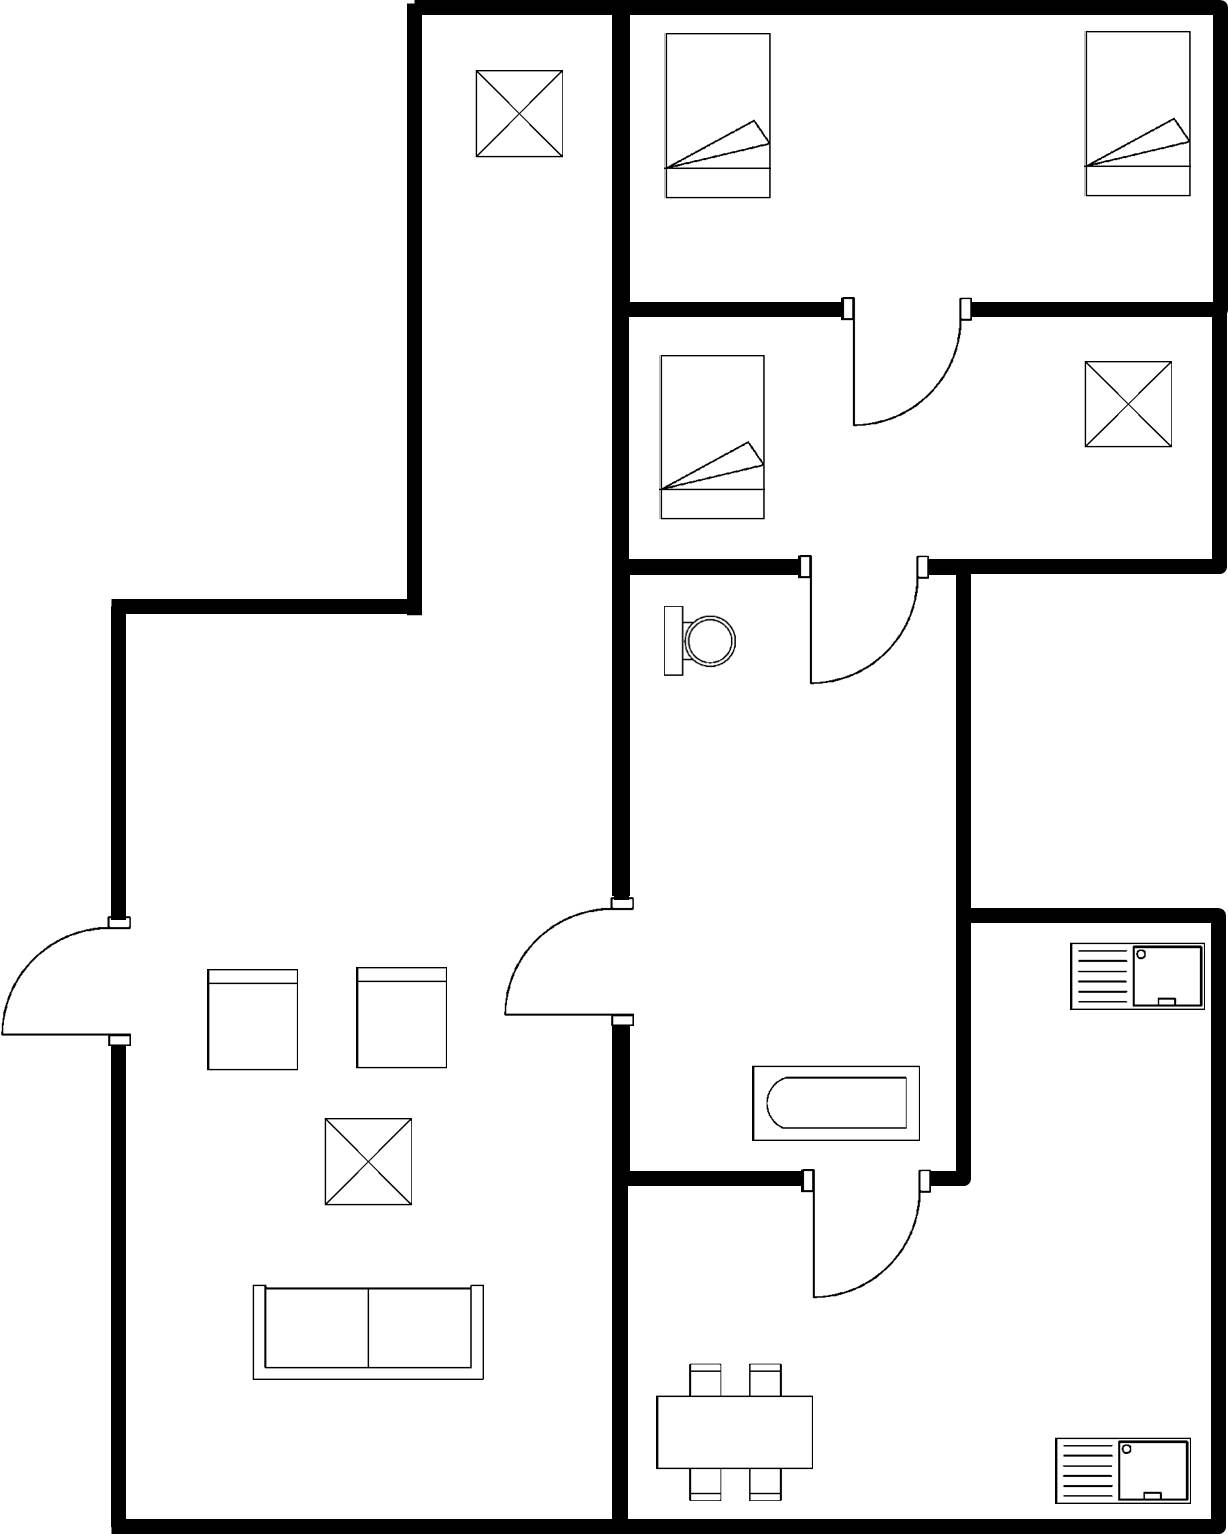bed: (656, 20, 784, 214), (649, 345, 777, 530), (1074, 21, 1202, 205)
coffee_table: (463, 59, 575, 172), (1075, 353, 1183, 462), (316, 1108, 422, 1217)
dining_table: (644, 1354, 822, 1506)
large_sink: (653, 593, 752, 690)
large_sofa: (238, 1272, 498, 1395)
sink: (1059, 932, 1207, 1023), (1049, 1429, 1202, 1511)
small_sofa: (344, 954, 462, 1081), (195, 960, 310, 1086)
tub: (741, 1056, 929, 1151)
